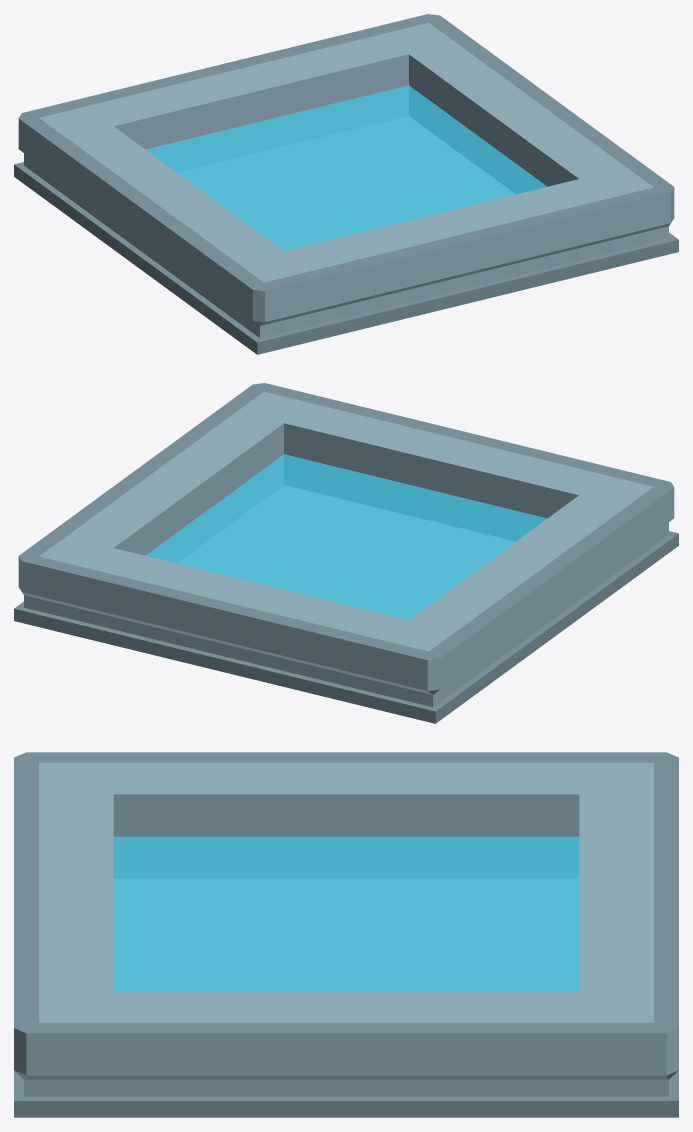
Rendered from fountainSquare.fbx.
The picture shows the model from 3 angles, top to bottom: view 1: azimuth 30°, elevation 25°; view 2: azimuth 150°, elevation 25°; view 3: azimuth 270°, elevation 25°; orthographic projection. The views are drawn at different scales.
Parts seen in each view (by area): view 1: fountainSquare; view 2: fountainSquare; view 3: fountainSquare.
Boxes of the visible parts, box(x1,y1,x2,y2) form: fountainSquare: box(14, 14, 678, 354); fountainSquare: box(14, 383, 678, 723); fountainSquare: box(14, 752, 678, 1117).
Size of the model in its own units: 20 by 2.8 by 20.
